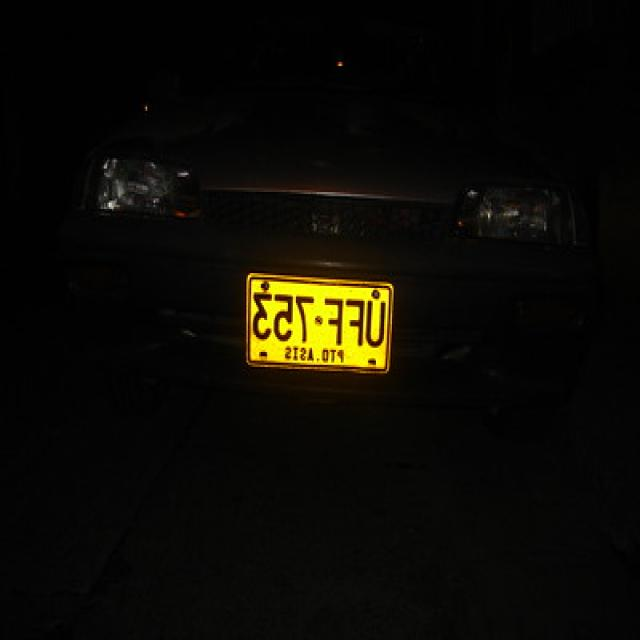placas: (249, 288, 387, 349)
